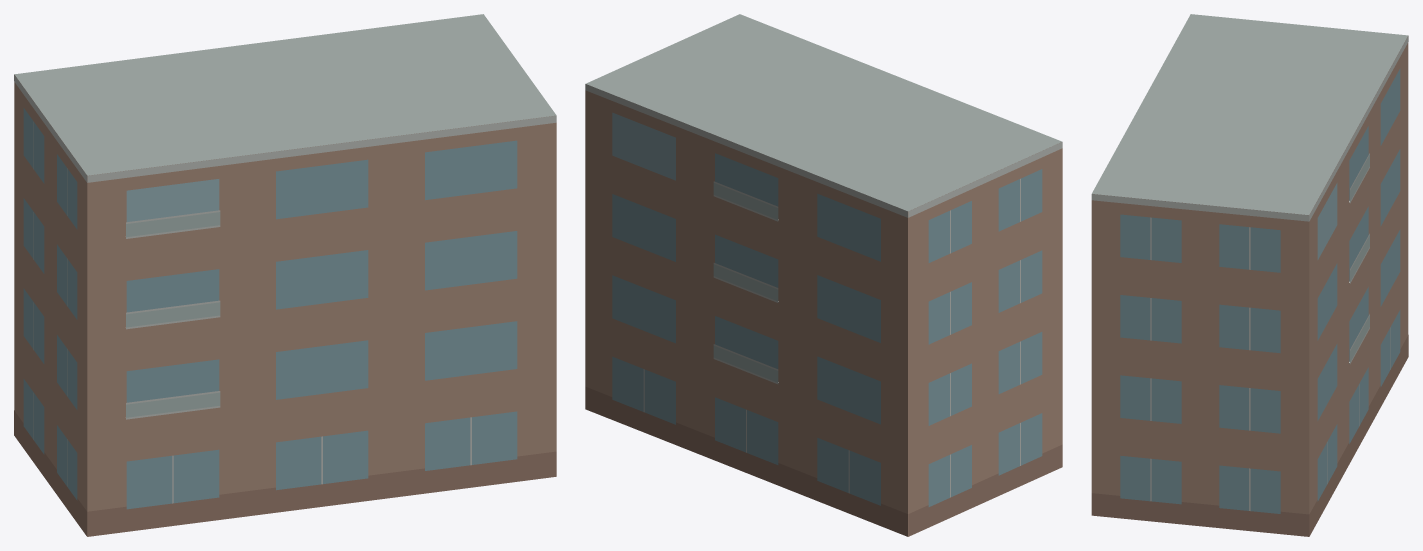
Rendered from residential-006e33ca-a674-4f47-9e80-a4234cbc5c87.glb.
The picture shows the model from 3 angles, left to right: view 1: azimuth 30°, elevation 25°; view 2: azimuth 150°, elevation 25°; view 3: azimuth 270°, elevation 25°; orthographic projection. The views are drawn at different scales.
Parts seen in each view (by area): view 1: residential-006e33ca-a674-4f47-9e80-a4234cbc5c87.tmp; view 2: residential-006e33ca-a674-4f47-9e80-a4234cbc5c87.tmp; view 3: residential-006e33ca-a674-4f47-9e80-a4234cbc5c87.tmp.
Boxes of the visible parts, <box> form: residential-006e33ca-a674-4f47-9e80-a4234cbc5c87.tmp: <box>14,14,556,536</box>; residential-006e33ca-a674-4f47-9e80-a4234cbc5c87.tmp: <box>585,14,1062,536</box>; residential-006e33ca-a674-4f47-9e80-a4234cbc5c87.tmp: <box>1091,14,1408,536</box>.
Bounding box in the file's own units: 16.37 × 12.2 × 10.9.
